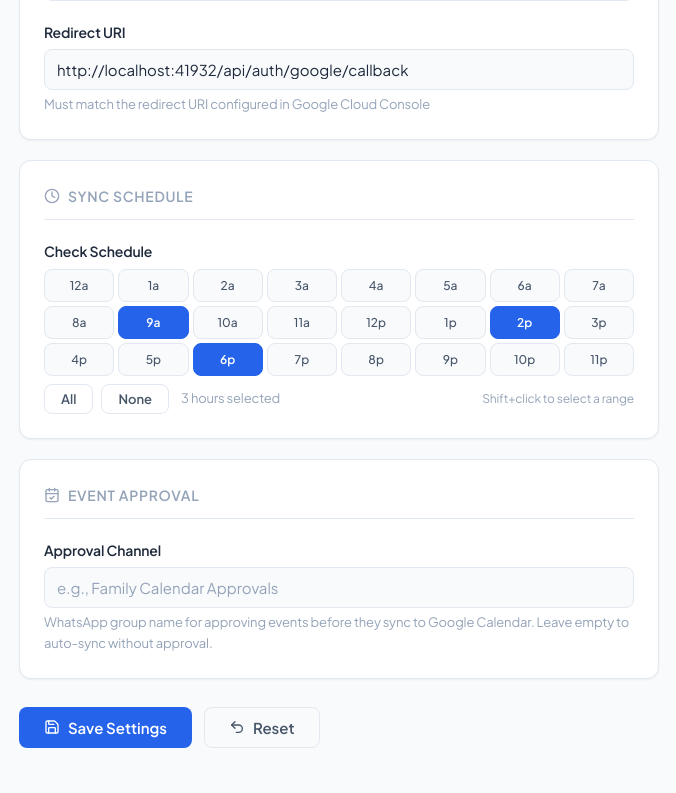
Test: SettingsPage › validates at least one hour selected on submit
(page scrolled)
Expected: the text "Check Schedule" is shown, [44,242,152,260]
// Default has hours selected — deselect them all via "None" button
Click the button "None" at (135, 398), box [101,384,169,414]
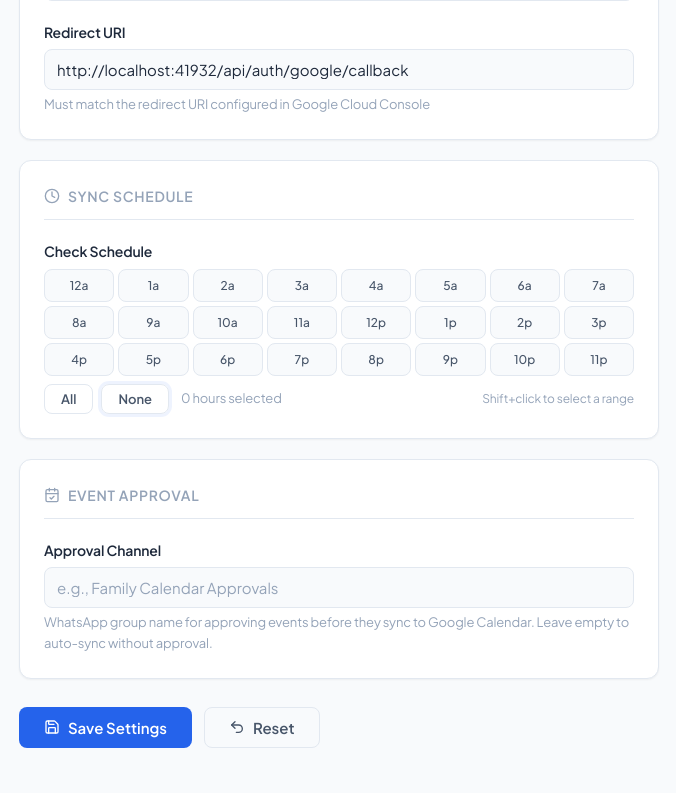
Click the button "Save Settings" at (106, 727), box [19,707,192,748]
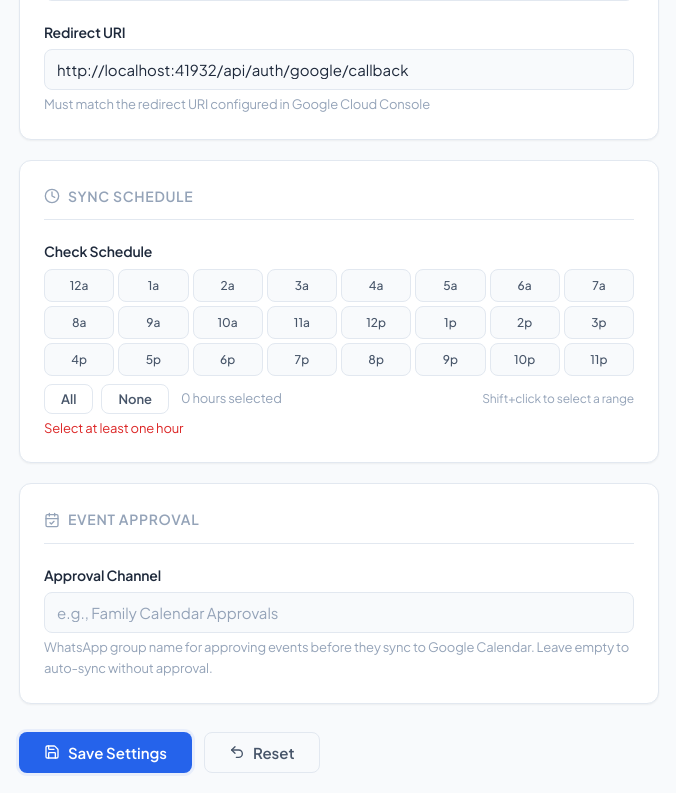
Expected: the text "Select at least one hour" is shown, [44,420,183,436]
